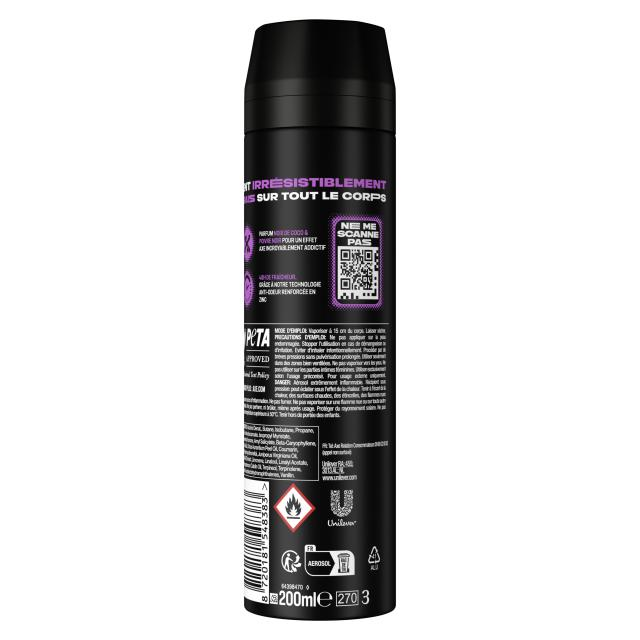GHS_Symbol_FLAME: (274, 482, 316, 532)
